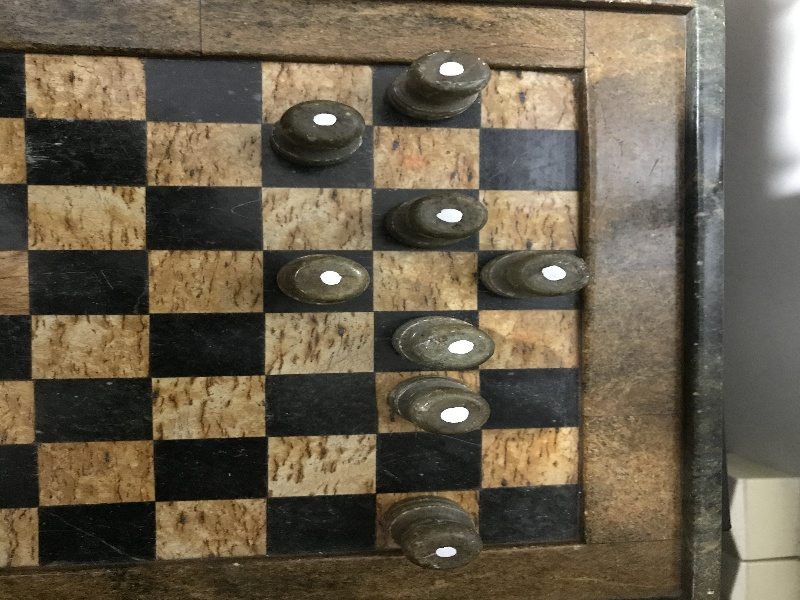WhitePawn: (381, 496, 481, 570), (387, 49, 490, 120), (387, 375, 489, 434), (271, 100, 362, 165), (482, 249, 588, 302), (393, 315, 494, 370), (388, 192, 488, 244), (276, 253, 370, 304)
